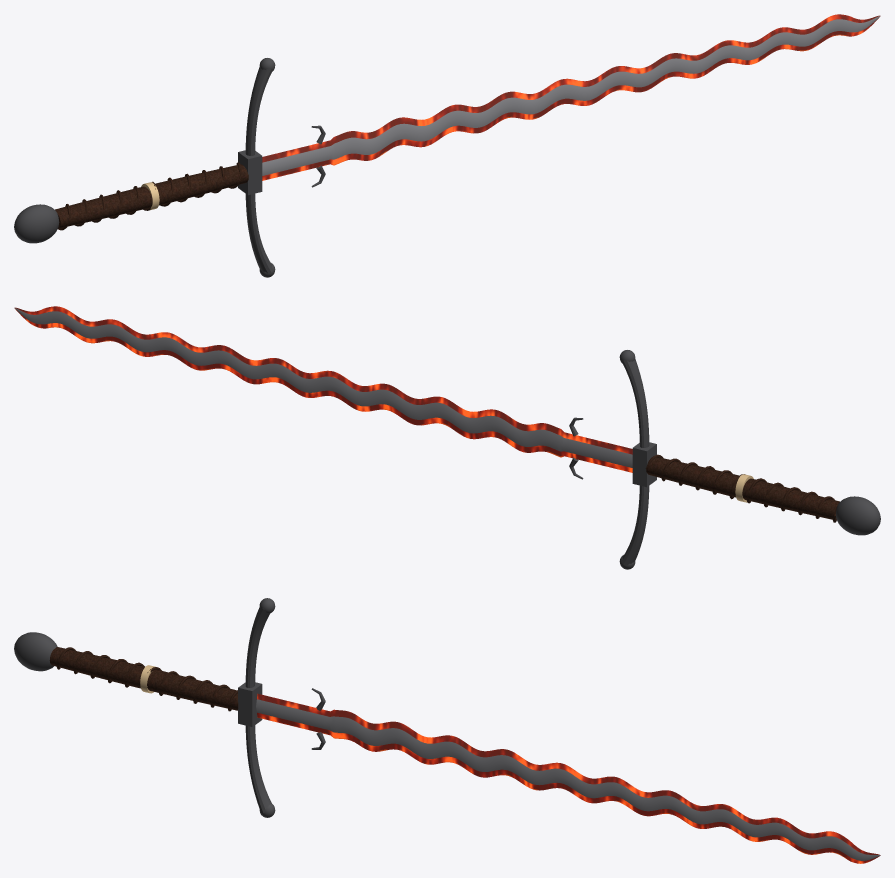
The model's file is espada_flamejante.glb.
The picture shows the model from 3 angles, top to bottom: view 1: azimuth 30°, elevation 25°; view 2: azimuth 150°, elevation 25°; view 3: azimuth 330°, elevation 25°; orthographic projection.
Visible parts, largest first — view 1: EspadaoFlamejante; view 2: EspadaoFlamejante; view 3: EspadaoFlamejante.
Boxes of the visible parts, left/top/right/bottom form: EspadaoFlamejante: left=14, top=14, right=880, bottom=277; EspadaoFlamejante: left=14, top=306, right=880, bottom=569; EspadaoFlamejante: left=14, top=598, right=880, bottom=863.
Size of the model in its own units: 1.51 by 0.364 by 0.048.
Materials: 5 (1 with a texture image).
